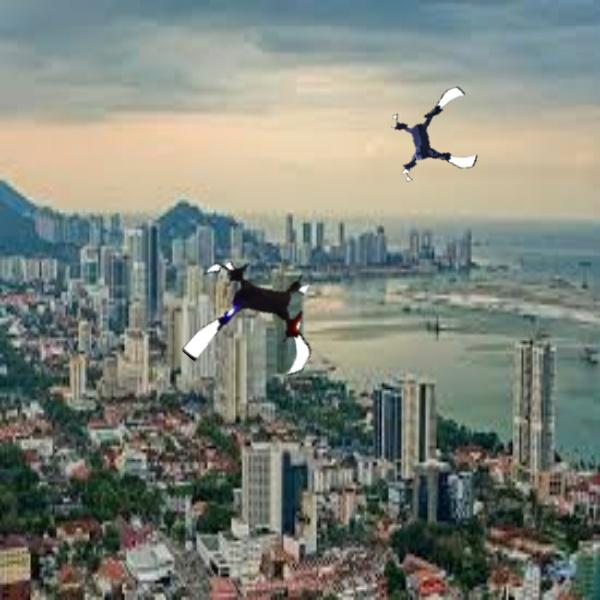drone: (184, 247, 329, 392), (387, 90, 481, 184)
